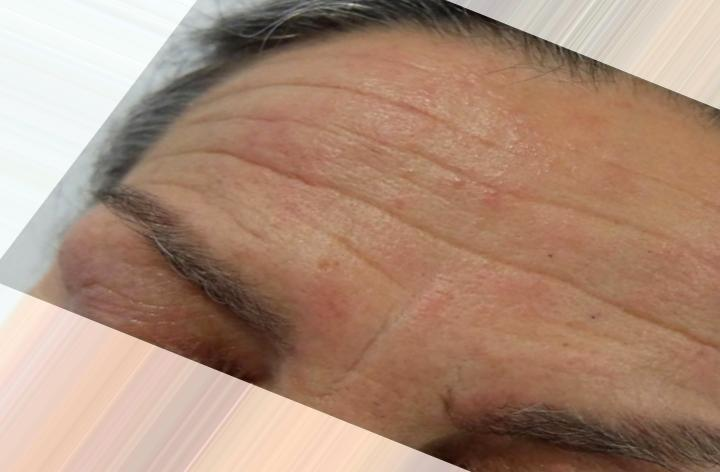Contact Dermatitis: (244, 130, 708, 346)
